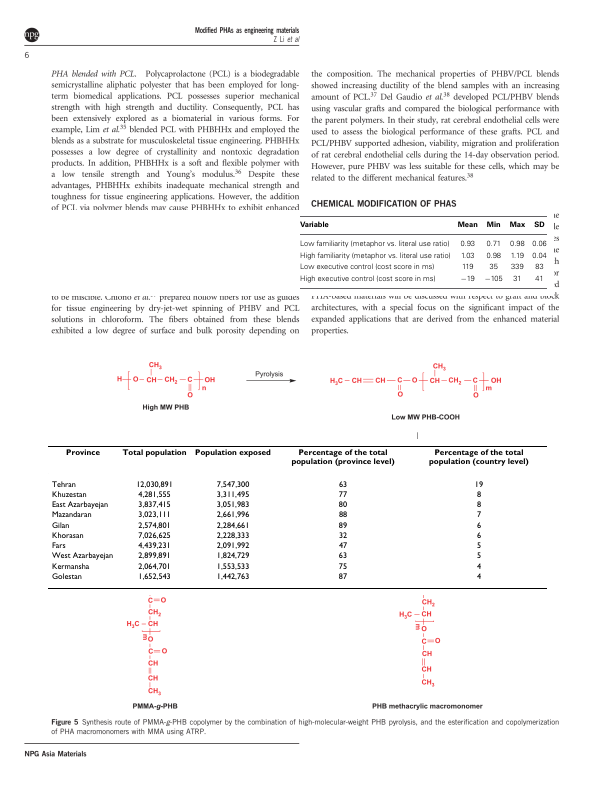borderless: (47, 444, 547, 588), (299, 215, 547, 289)
cell: (290, 449, 395, 467), (428, 449, 529, 467), (298, 252, 451, 261), (298, 240, 450, 249), (298, 275, 436, 284), (298, 263, 435, 272), (194, 449, 271, 458), (121, 449, 187, 458), (50, 552, 114, 561), (50, 501, 109, 510), (50, 562, 90, 572), (135, 480, 173, 490), (50, 511, 92, 520), (50, 490, 87, 500), (215, 480, 250, 490), (215, 490, 250, 500), (215, 521, 250, 531), (215, 531, 250, 541), (215, 562, 250, 572), (215, 572, 250, 582), (137, 490, 171, 500), (137, 521, 171, 531), (50, 531, 84, 541), (137, 531, 171, 541), (137, 562, 171, 572), (137, 572, 171, 582), (50, 572, 82, 582), (65, 449, 100, 458), (215, 501, 250, 510), (215, 511, 250, 520), (215, 542, 250, 551), (215, 552, 250, 561), (137, 501, 171, 510), (137, 511, 171, 520), (137, 542, 171, 551), (137, 552, 171, 561), (50, 480, 76, 490), (298, 221, 329, 229), (50, 521, 70, 531), (483, 275, 503, 284), (456, 221, 478, 229), (508, 240, 525, 249), (459, 240, 475, 249), (485, 240, 501, 249), (531, 240, 547, 249), (459, 252, 475, 261), (485, 252, 501, 261), (531, 252, 547, 261), (459, 275, 475, 284), (50, 542, 66, 551), (508, 221, 525, 229), (509, 252, 524, 261), (509, 263, 524, 272), (485, 221, 501, 229), (460, 263, 474, 272), (337, 480, 348, 490), (473, 480, 484, 490), (337, 490, 348, 500), (337, 521, 348, 531), (337, 531, 348, 541), (337, 562, 348, 572), (337, 572, 348, 582), (337, 501, 348, 510), (337, 511, 348, 520), (337, 542, 348, 551), (337, 552, 348, 561), (533, 221, 545, 229), (488, 263, 498, 272), (534, 263, 544, 272), (512, 275, 522, 284), (534, 275, 544, 284), (475, 531, 482, 541), (475, 572, 482, 582), (475, 501, 482, 510), (475, 511, 482, 520), (475, 542, 482, 551), (475, 552, 482, 561), (475, 490, 481, 500), (475, 521, 481, 531), (475, 562, 481, 572)
